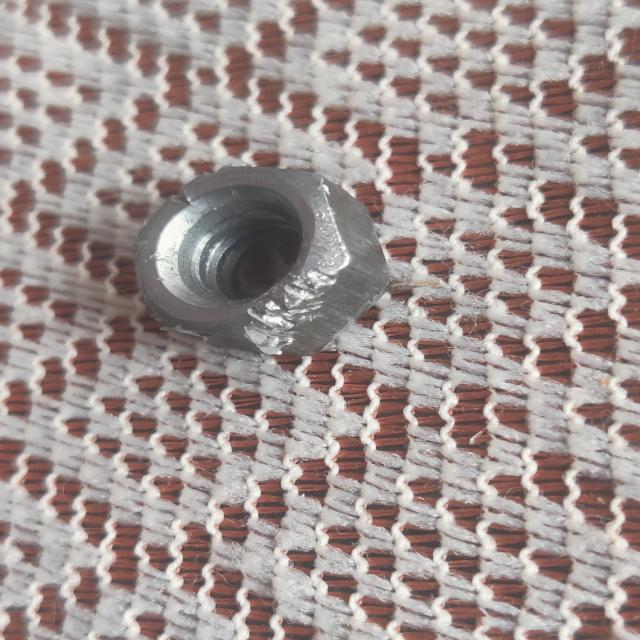infected nut: (137, 168, 390, 355)
